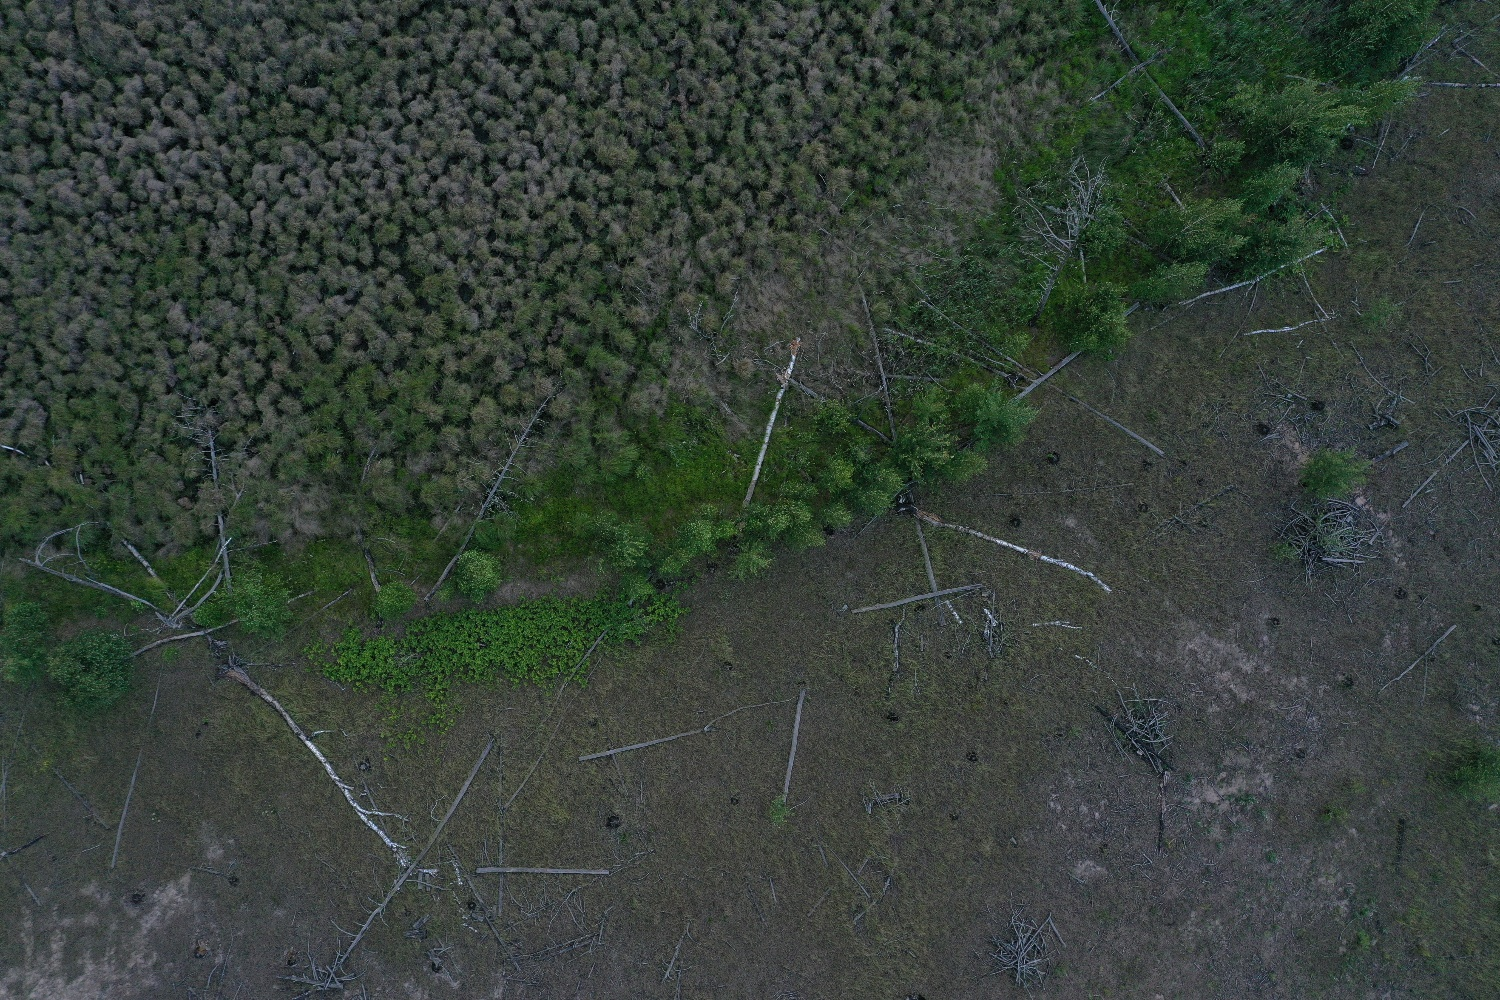branches: (1096, 682, 1177, 780), (987, 900, 1067, 996)
